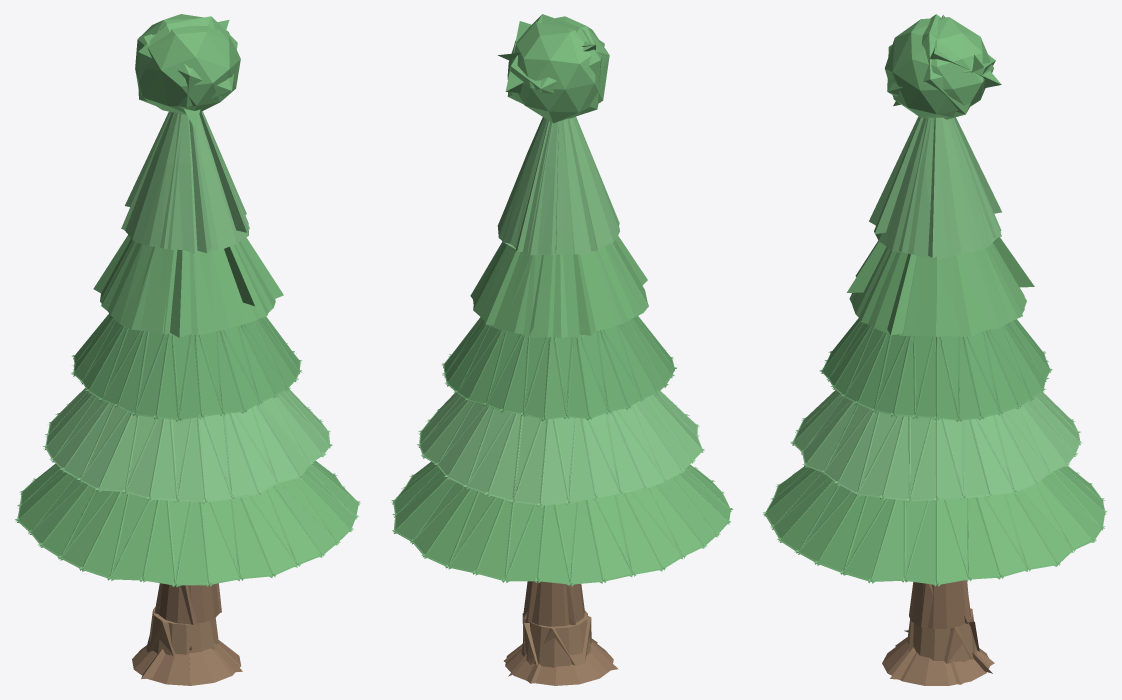
The model's file is tree.glb.
The picture shows the model from 3 angles, left to right: view 1: azimuth 30°, elevation 25°; view 2: azimuth 150°, elevation 25°; view 3: azimuth 270°, elevation 25°; orthographic projection.
Visible parts, largest first — view 1: Tree_LOD3_mesh, Tree_LOD0_mesh, Tree_LOD1_mesh, Tree_LOD2_mesh; view 2: Tree_LOD3_mesh, Tree_LOD0_mesh, Tree_LOD1_mesh, Tree_LOD2_mesh; view 3: Tree_LOD3_mesh, Tree_LOD0_mesh, Tree_LOD1_mesh, Tree_LOD2_mesh.
Part boxes in pixels (x1,y1,x2,y2): Tree_LOD3_mesh: (18, 34, 357, 584); Tree_LOD0_mesh: (15, 14, 360, 685); Tree_LOD1_mesh: (17, 16, 359, 679); Tree_LOD2_mesh: (21, 19, 349, 669); Tree_LOD3_mesh: (394, 45, 729, 583); Tree_LOD0_mesh: (391, 16, 733, 685); Tree_LOD1_mesh: (394, 14, 731, 683); Tree_LOD2_mesh: (394, 21, 724, 676); Tree_LOD3_mesh: (766, 15, 1103, 583); Tree_LOD0_mesh: (763, 17, 1107, 685); Tree_LOD1_mesh: (769, 14, 1104, 684); Tree_LOD2_mesh: (780, 15, 1103, 673).
Size of the model in its own units: 2.74 by 5.66 by 2.77.
